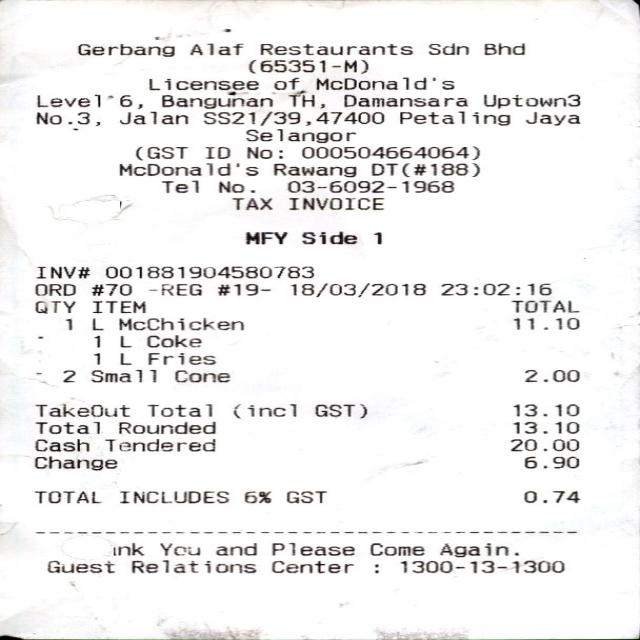text: (200, 109, 380, 124), (104, 264, 313, 276), (299, 144, 478, 158), (399, 559, 561, 572), (290, 281, 424, 296), (285, 179, 452, 191), (248, 58, 366, 72), (259, 42, 409, 53), (127, 559, 253, 572), (398, 109, 507, 124), (316, 76, 452, 88), (243, 128, 354, 142), (118, 162, 256, 173), (370, 162, 478, 176), (118, 316, 242, 328), (36, 92, 141, 106), (161, 94, 271, 107), (119, 489, 227, 502), (482, 92, 578, 106), (343, 94, 465, 105), (147, 76, 258, 88), (103, 438, 214, 450), (32, 454, 116, 469), (76, 43, 172, 56), (33, 403, 127, 416), (439, 282, 549, 293), (118, 421, 214, 433), (272, 162, 354, 176), (287, 196, 381, 208), (438, 542, 516, 556), (231, 402, 297, 418), (88, 368, 157, 382), (270, 542, 350, 554), (270, 560, 350, 572), (116, 110, 184, 123), (33, 111, 96, 125), (33, 489, 99, 502), (147, 403, 210, 416), (146, 350, 214, 362), (509, 438, 576, 450), (45, 560, 112, 572), (525, 109, 578, 124), (511, 316, 577, 328), (511, 404, 577, 416), (511, 421, 577, 433), (34, 421, 98, 433), (509, 299, 576, 310), (285, 88, 323, 106), (134, 146, 186, 159), (92, 298, 143, 311), (145, 333, 200, 345), (187, 42, 241, 54), (300, 230, 354, 242), (523, 368, 577, 380), (173, 369, 227, 381), (33, 438, 87, 450), (148, 282, 200, 294), (214, 282, 266, 294), (370, 542, 422, 554), (522, 490, 578, 501), (37, 266, 88, 278), (313, 404, 364, 416), (523, 456, 577, 467), (284, 489, 324, 502), (243, 230, 285, 242), (213, 542, 254, 554), (228, 196, 268, 208), (32, 282, 72, 294), (88, 282, 128, 294), (32, 299, 72, 311), (159, 542, 199, 554), (424, 42, 464, 53), (483, 42, 523, 53), (245, 145, 281, 157), (214, 179, 250, 191), (161, 179, 196, 191), (112, 542, 142, 554), (243, 489, 269, 502), (203, 145, 229, 157), (274, 76, 298, 88), (61, 369, 74, 381), (118, 352, 130, 364), (372, 231, 383, 243), (91, 316, 101, 328), (91, 352, 101, 364), (119, 335, 129, 346), (64, 318, 70, 328), (94, 335, 98, 346), (370, 563, 374, 572), (72, 127, 76, 129)
